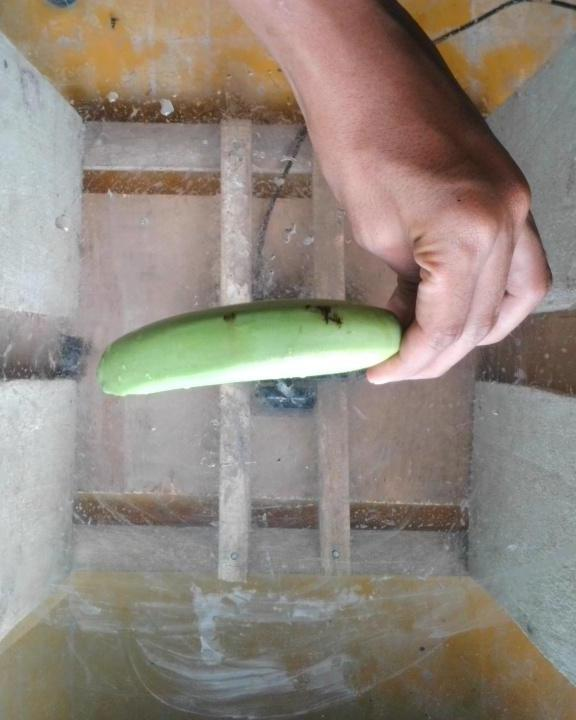CLASS B: (77, 284, 414, 414)
Class A: (297, 296, 356, 341), (216, 300, 251, 329)
